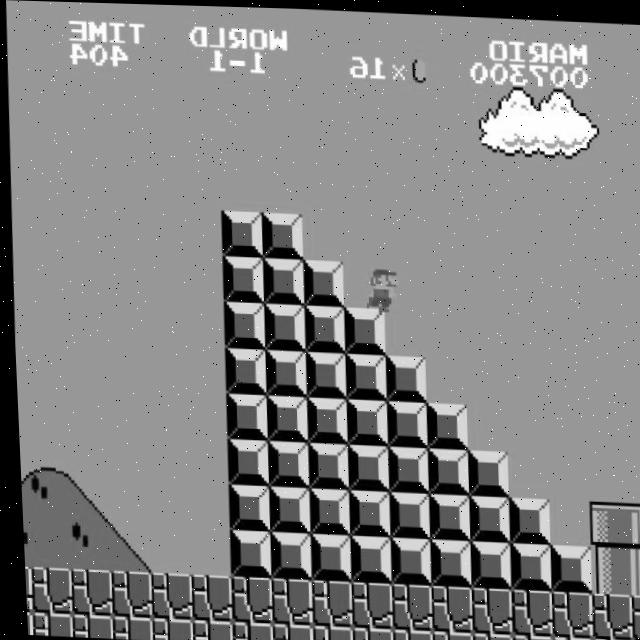11- little_mario: (356, 260, 402, 311)
14- pipe: (583, 543, 627, 591), (624, 545, 640, 592)
15- pipe_head: (583, 497, 627, 545), (623, 499, 640, 547)
17- undestructible_block: (584, 589, 628, 637), (544, 587, 588, 635), (504, 586, 548, 634), (464, 584, 508, 632), (424, 582, 468, 630), (384, 580, 428, 628), (344, 579, 388, 627), (304, 578, 348, 626), (264, 576, 308, 624), (224, 574, 268, 622), (24, 566, 68, 614), (184, 572, 227, 620), (144, 571, 187, 619), (104, 569, 147, 617), (64, 568, 107, 616), (105, 615, 147, 640), (65, 613, 107, 638), (25, 612, 67, 637), (145, 616, 187, 640), (185, 618, 227, 640), (225, 620, 267, 640), (265, 621, 307, 640), (625, 591, 640, 638), (306, 623, 347, 640), (386, 625, 427, 640), (346, 625, 387, 640), (426, 627, 467, 640), (466, 629, 507, 640), (506, 631, 547, 640), (20, 565, 28, 611), (546, 632, 587, 640), (586, 634, 627, 640), (21, 611, 27, 633), (626, 636, 640, 640)
9- hard_block: (543, 541, 587, 589), (503, 494, 547, 542), (503, 540, 547, 588), (463, 538, 507, 586), (421, 399, 465, 447), (423, 536, 467, 584), (381, 398, 425, 446), (383, 534, 427, 582), (339, 305, 383, 353), (341, 396, 385, 444), (343, 533, 387, 581), (299, 303, 343, 351), (301, 395, 345, 443), (303, 532, 347, 580), (259, 301, 303, 349), (261, 393, 305, 441), (263, 530, 307, 578), (219, 300, 263, 348), (221, 391, 265, 439), (223, 528, 267, 576), (380, 352, 424, 399), (340, 351, 384, 398), (300, 349, 344, 396), (260, 347, 304, 394), (220, 346, 264, 393), (463, 492, 506, 540), (423, 491, 466, 539), (383, 489, 426, 537), (343, 488, 386, 536), (299, 258, 342, 306), (303, 486, 346, 534), (259, 256, 302, 304), (263, 484, 306, 532), (219, 254, 262, 302), (223, 483, 266, 531), (462, 447, 505, 494), (422, 445, 465, 492), (382, 444, 425, 491), (342, 442, 385, 489), (302, 441, 345, 488), (258, 210, 301, 257), (262, 439, 305, 486), (218, 209, 261, 256), (222, 437, 265, 484)
